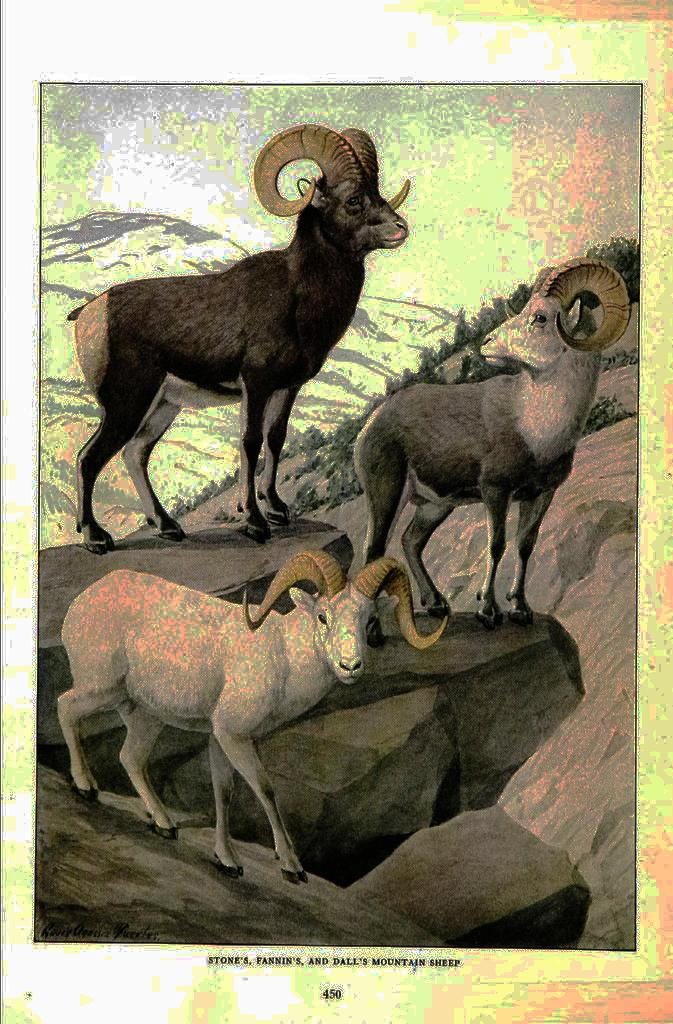Sheep: (61, 125, 409, 557), (55, 546, 448, 884), (368, 258, 632, 648)
